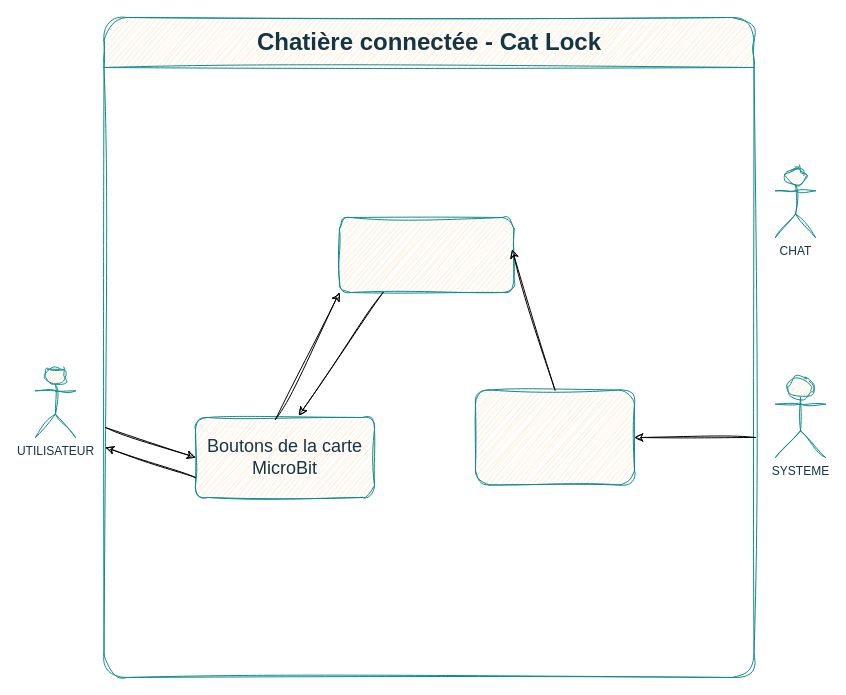
This 846x695 diagram has some shape labels left out. The shapes that lost their labels are listed below. From the top down, each one's centre as x and y in pixels, then its label:
At pixel 426 254: "Chatière".
At pixel 554 437: "Reconnaissance Faciale - Husky Lens".
